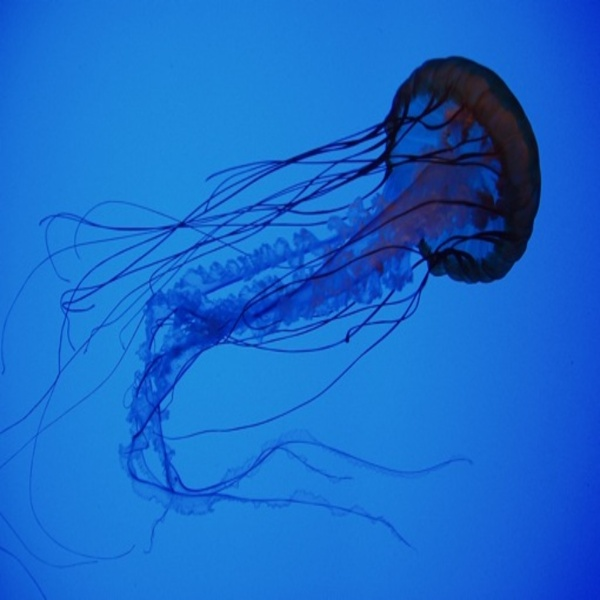Jellyfish: (0, 53, 542, 598)
